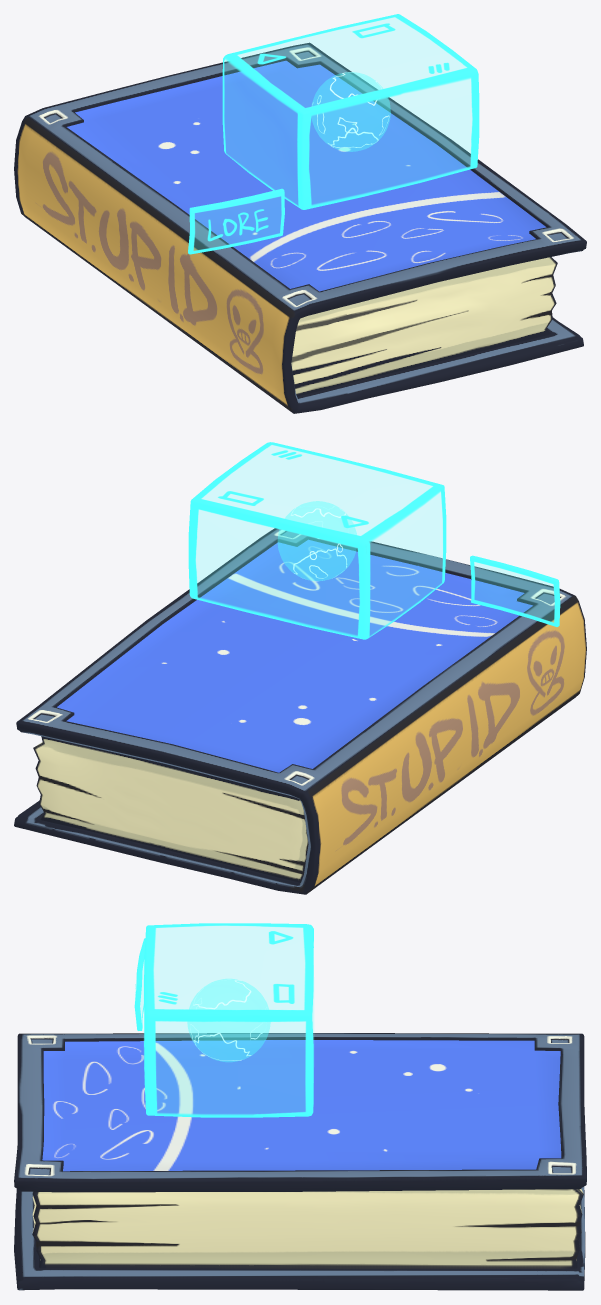
File: Book.glb
3 views of the same model, one above another, from view 1: azimuth 30°, elevation 25°; view 2: azimuth 150°, elevation 25°; view 3: azimuth 270°, elevation 25° (orthographic). The views are drawn at different scales.
Parts seen in each view (by area): view 1: Book, Hologram, Planet.002; view 2: Book, Hologram, Planet.002; view 3: Book, Hologram, Planet.002.
Part boxes in pixels (x1=…): Book: x1=14, y1=42, x2=586, y2=413; Hologram: x1=188, y1=14, x2=479, y2=254; Planet.002: x1=312, y1=72, x2=390, y2=151; Book: x1=14, y1=528, x2=586, y2=894; Hologram: x1=188, y1=442, x2=560, y2=639; Planet.002: x1=278, y1=501, x2=356, y2=581; Book: x1=14, y1=1033, x2=586, y2=1290; Hologram: x1=134, y1=923, x2=313, y2=1117; Planet.002: x1=187, y1=979, x2=270, y2=1061.
Size of the model in its own units: 4.7 by 3.26 by 6.6.
3 materials, 3 textured.
